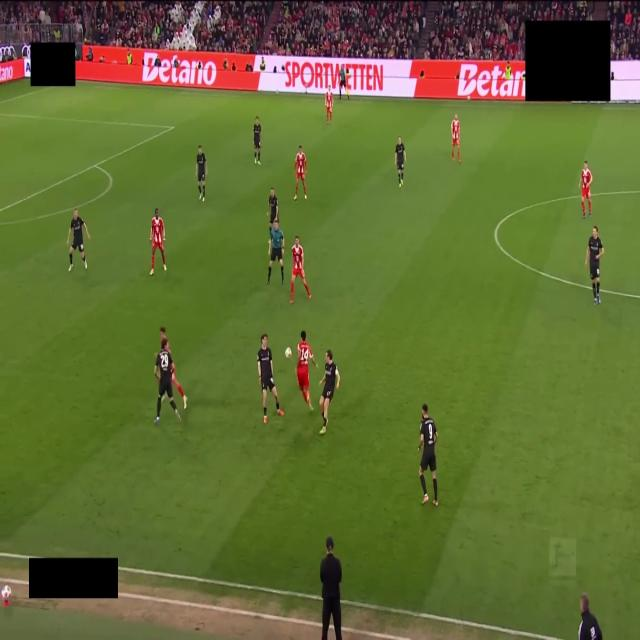ball: (285, 348, 291, 359)
player: (154, 338, 180, 424), (258, 334, 283, 423), (419, 404, 437, 506), (320, 350, 340, 434), (297, 331, 317, 410), (585, 226, 604, 304), (67, 208, 90, 271), (290, 236, 310, 303), (150, 208, 166, 275), (579, 161, 592, 218), (172, 363, 187, 409), (294, 145, 306, 199), (394, 136, 406, 188), (196, 146, 207, 201), (268, 187, 279, 230), (452, 114, 460, 162), (253, 117, 261, 164), (325, 86, 333, 123)
referee: (267, 221, 284, 284)
